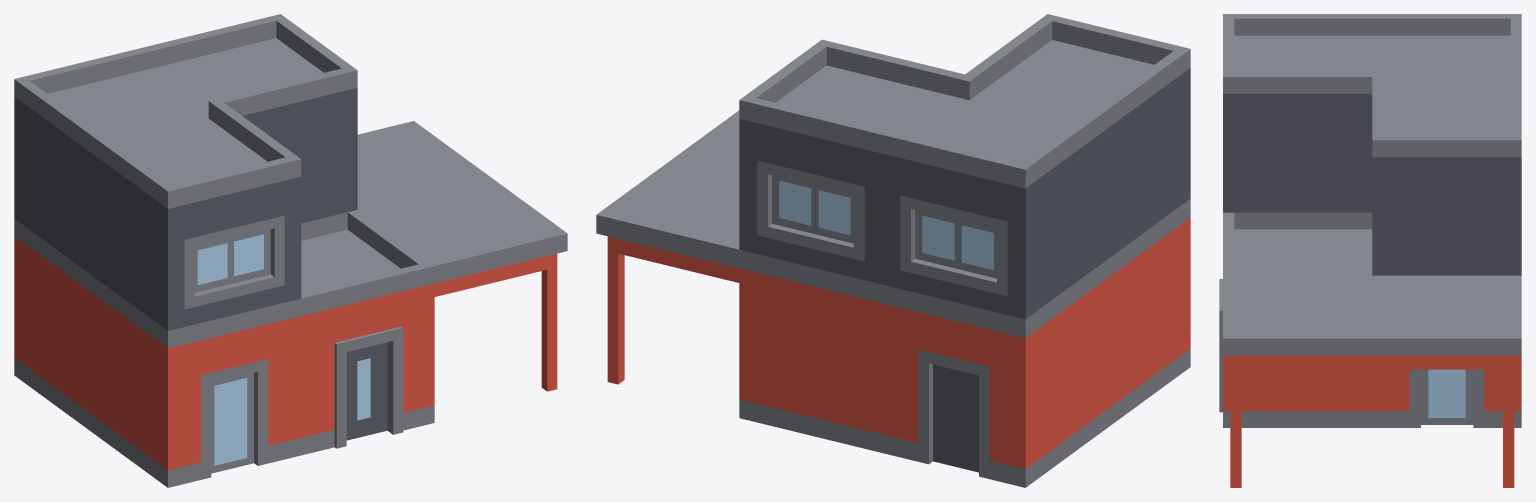
Rendered from House Type 19.glb.
3 renders of one model, left to right at view 1: azimuth 30°, elevation 25°; view 2: azimuth 150°, elevation 25°; view 3: azimuth 270°, elevation 25°, orthographic. The views are drawn at different scales.
Parts seen in each view (by area): view 1: house_type19; view 2: house_type19; view 3: house_type19.
Boxes of the visible parts, bbox=[...] form: house_type19: bbox=[14, 14, 567, 487]; house_type19: bbox=[596, 14, 1190, 487]; house_type19: bbox=[1219, 14, 1521, 487].
Size of the model in its own units: 1.2 by 0.85 by 0.81.
